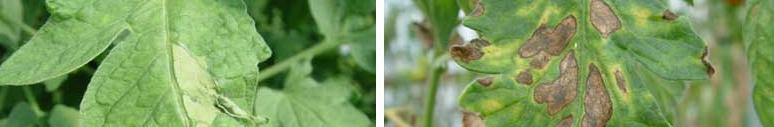Tomato leaf bacterial spot: (454, 0, 698, 127)
